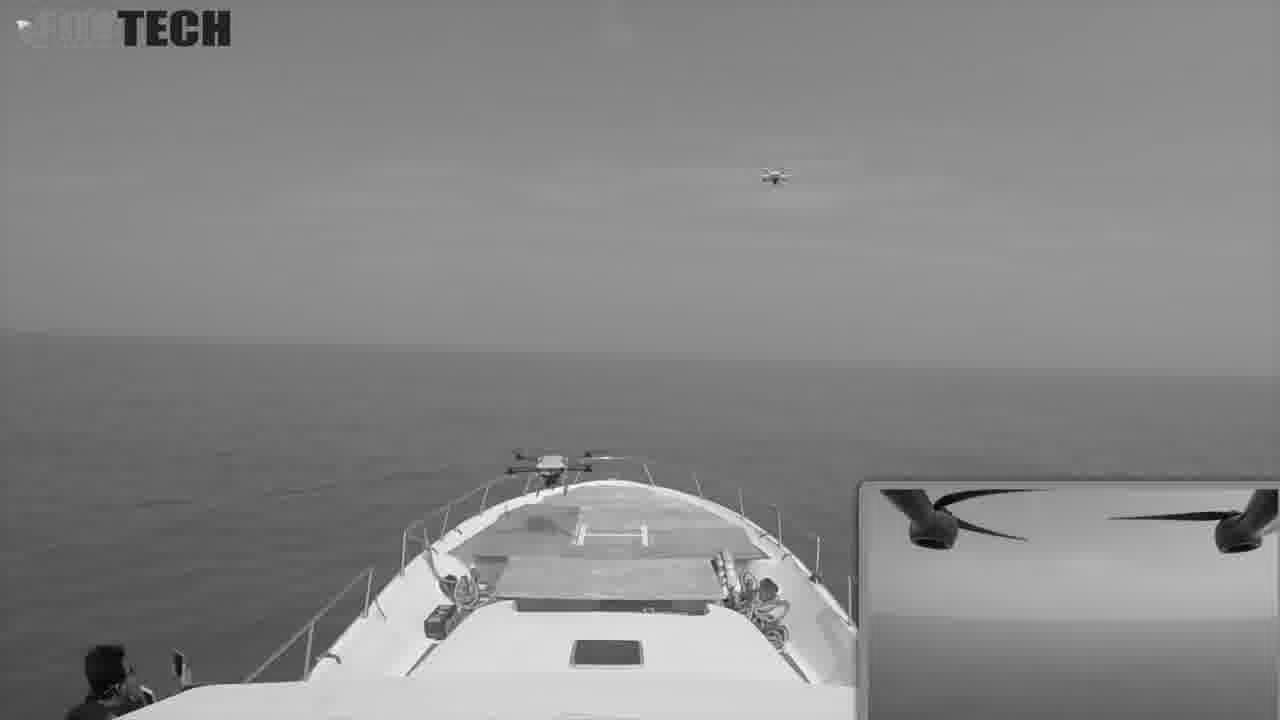drone: (488, 430, 612, 493), (742, 148, 801, 199)
